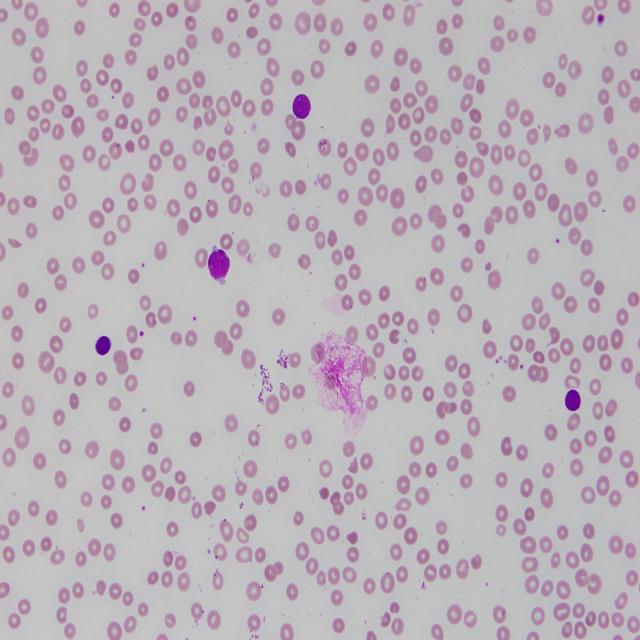cell: (208, 245, 230, 285), (292, 95, 311, 118), (565, 390, 580, 412), (95, 335, 111, 355)
